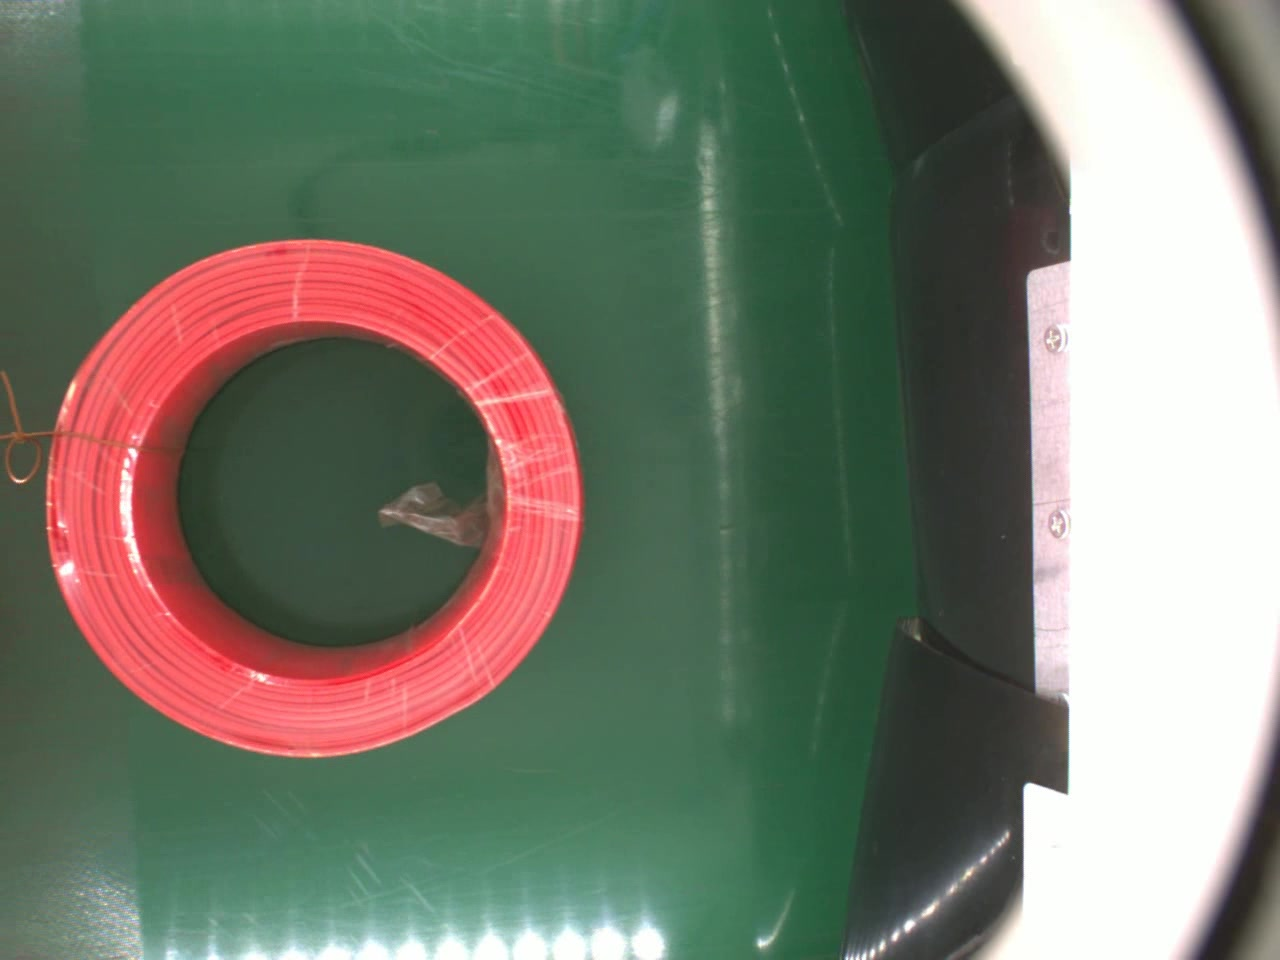red: (46, 231, 587, 765)
